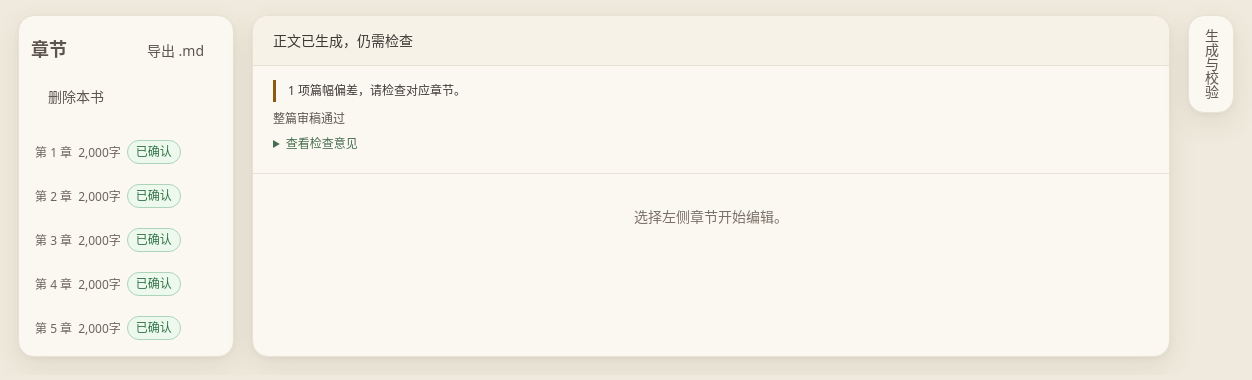
Scenario: shows chapter length evidence in the review details
Expected: the message "正文已生成，仍需检查" is shown, [253, 16, 1169, 66]
Click the heading "查看检查意见": (322, 144) [286, 135, 358, 152]
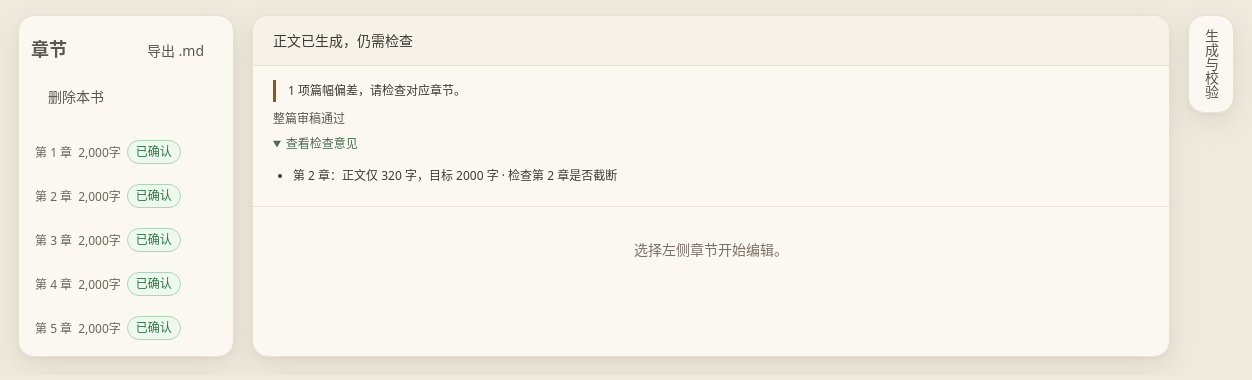
Expected: the list item "第 2 章：正文仅 320 字，目标 2000 字 · 检查第 2 章是否截断" is shown, [293, 167, 617, 184]
Expected: the text "· 检查第 2 章是否截断" is shown, [499, 167, 617, 184]
